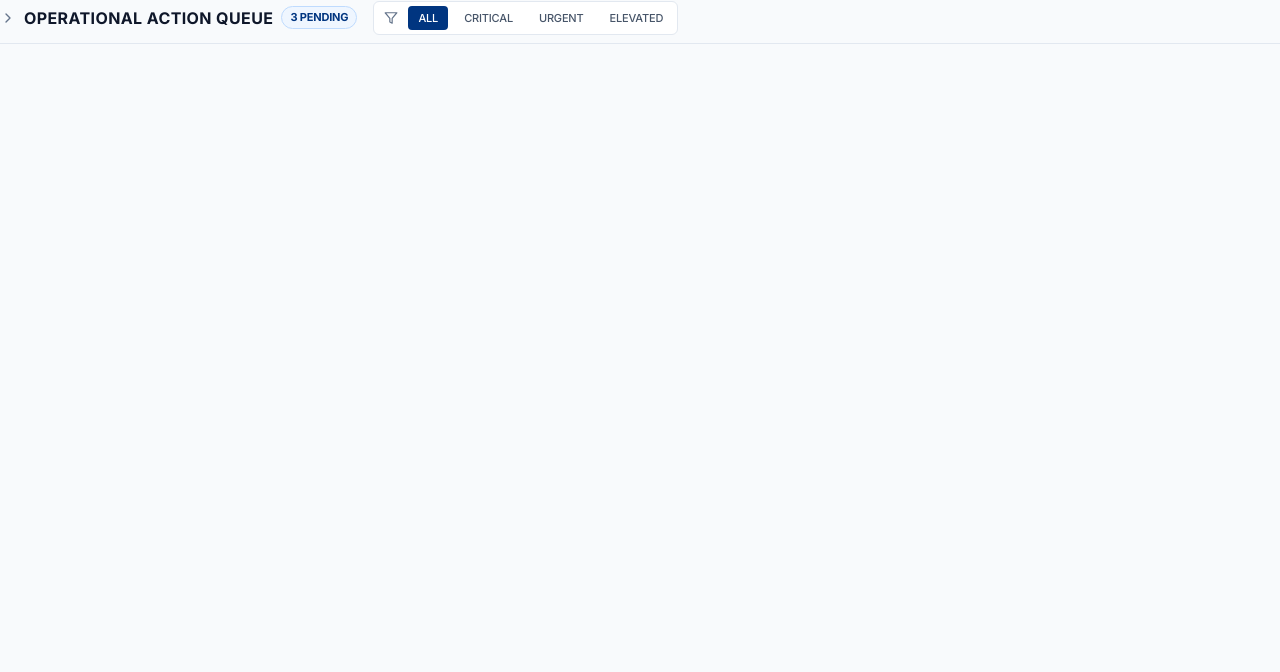
Test: Homepage Comprehensive Function Audit (http://localhost:3000/) › 3. Operational Action Center Functions › handles dismiss modal with operational reason validation
// Expand queue
Step 1. Click the heading "OPERATIONAL ACTION QUEUE" → click(149, 18), box [24,6,273,30]
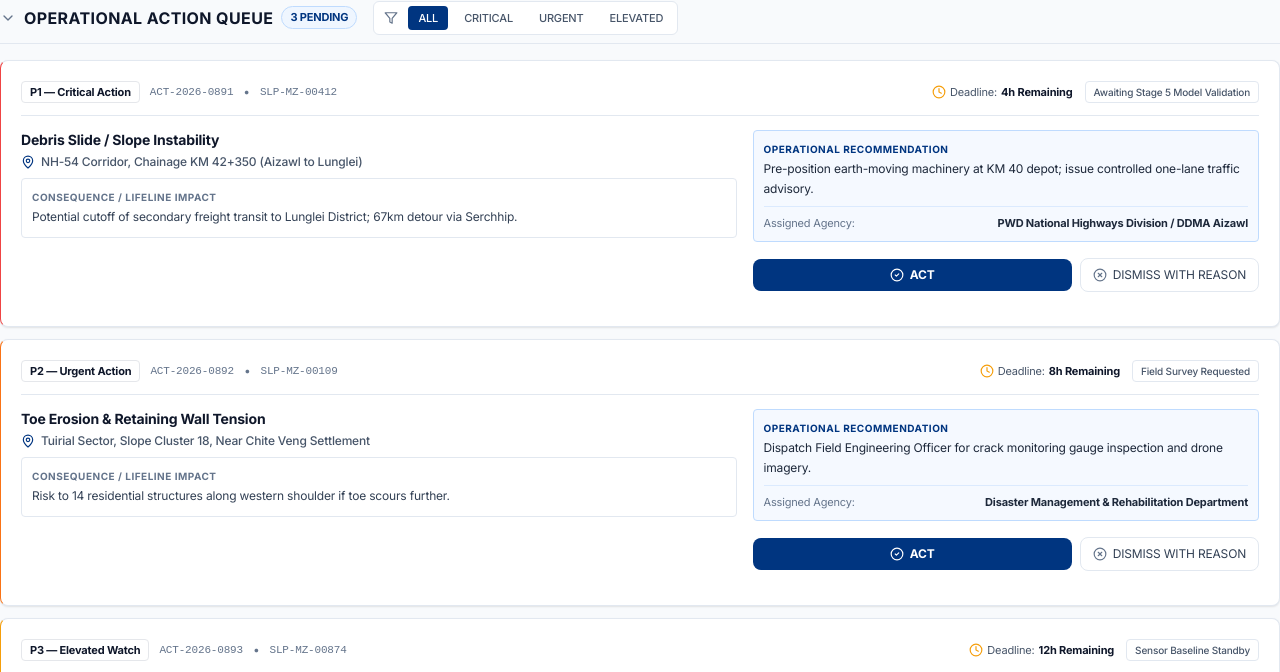
// Click DISMISS WITH REASON
Step 2. Click the button with aria-label "Dismiss action" → click(1169, 275), box [1080,258,1259,292]
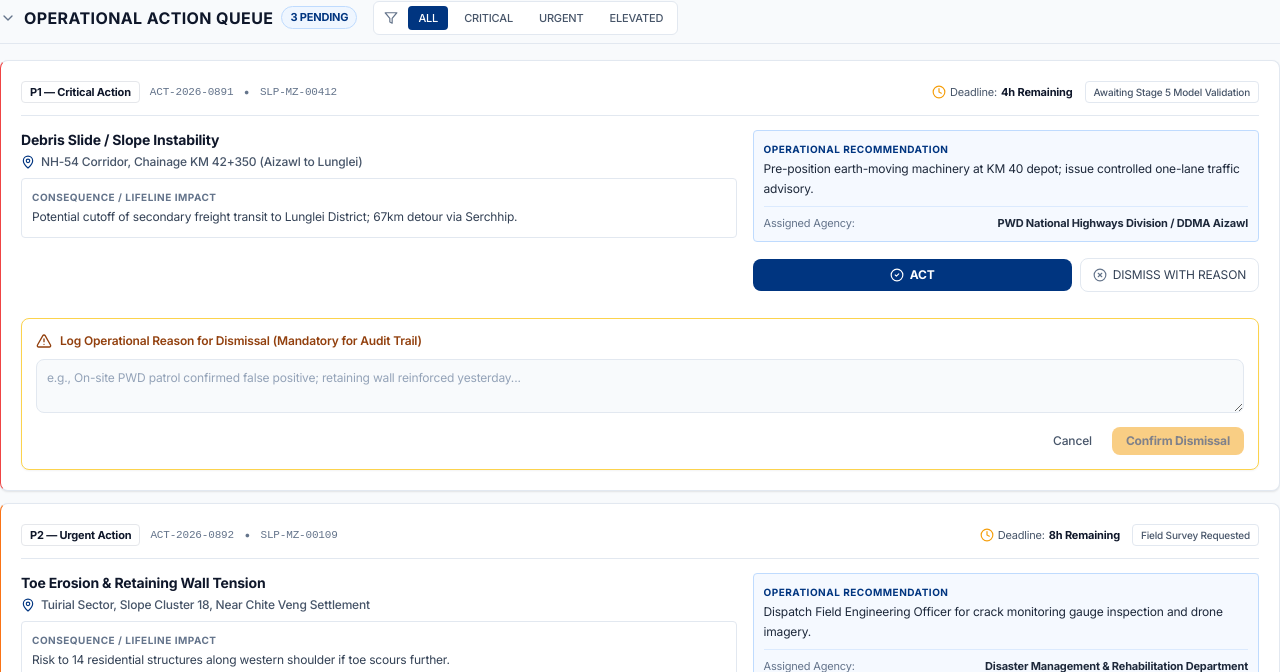
Check: the text "Log Operational Reason for Dismissal" is shown, box [60,333,422,348]
Check: the button "Confirm Dismissal" is disabled, box [1112,427,1244,455]
// Test Cancel closes dialog
Step 3. Click the button "Cancel" → click(1072, 441), box [1041,427,1104,455]
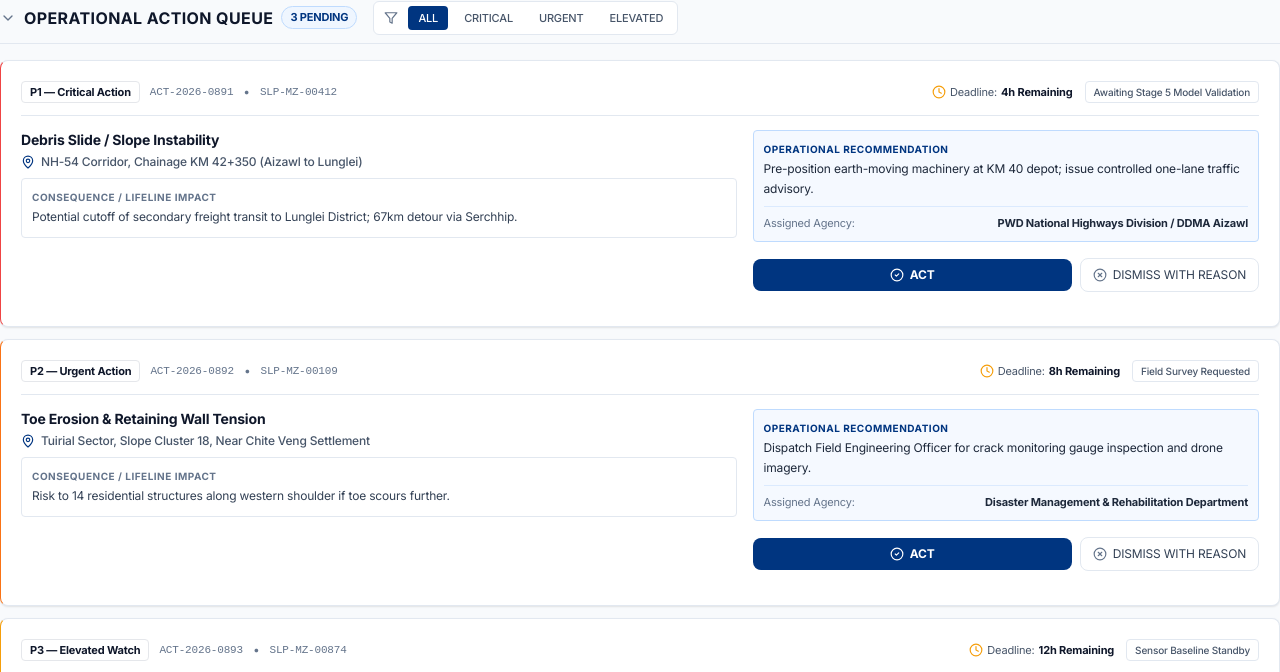
Check: the text "Log Operational Reason for Dismissal" is gone
// Re-open and enter valid operational reason
Step 4. Click the button with aria-label "Dismiss action" → click(1169, 275), box [1080,258,1259,292]
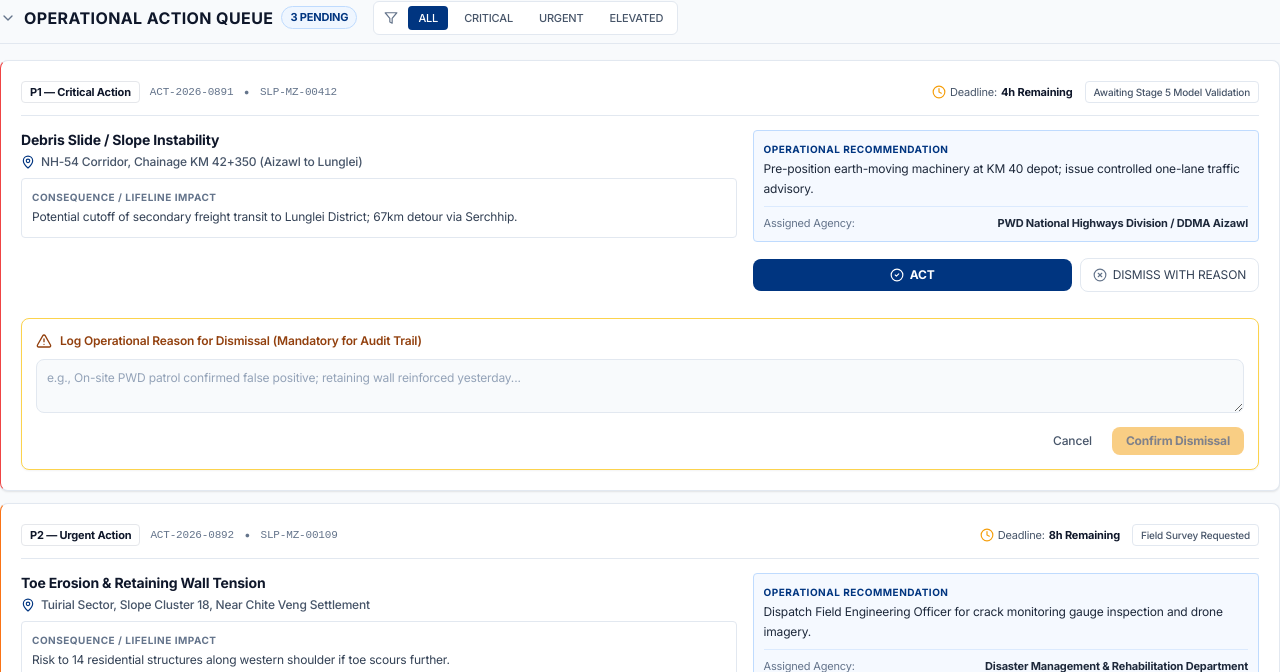
Step 5. Replace the text in the text box with placeholder "On-site PWD patrol confirmed false positive" with "Site inspected by BRO patrol - false positive due to boulder clearing." → (640, 386), box [36,359,1244,413]
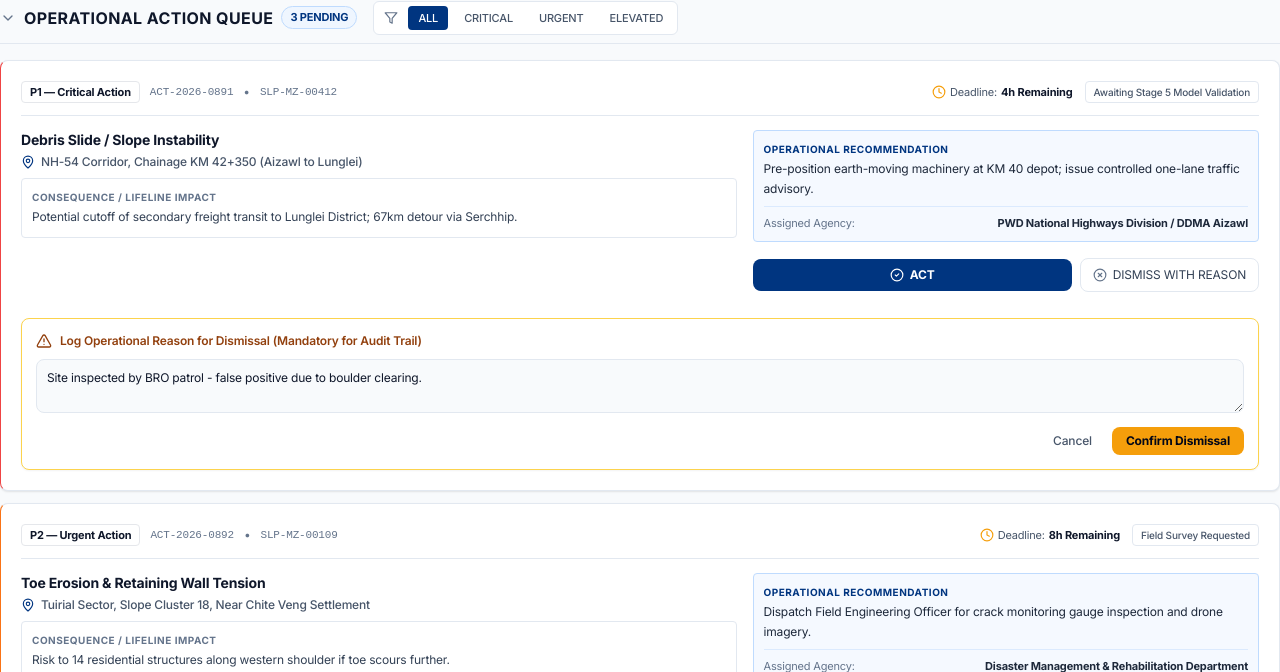
Check: the button "Confirm Dismissal" is enabled
Step 6. Click the button "Confirm Dismissal" → click(1178, 441), box [1112,427,1244,455]
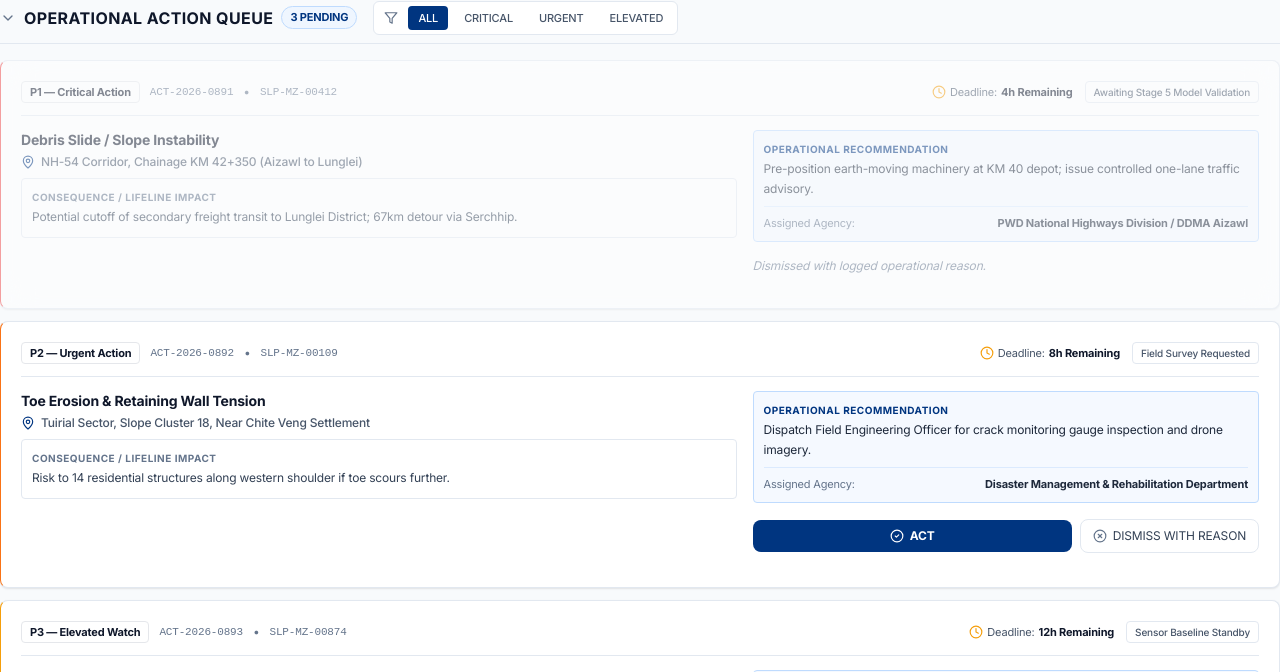
Check: the text "Log Operational Reason for Dismissal" is gone
Check: the text "Dismissed with logged operational reason." is shown, box [752,258,986,274]
